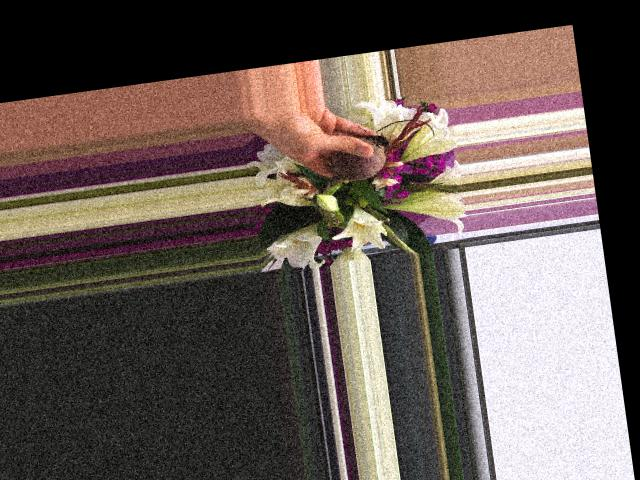beet: (313, 132, 395, 195)
